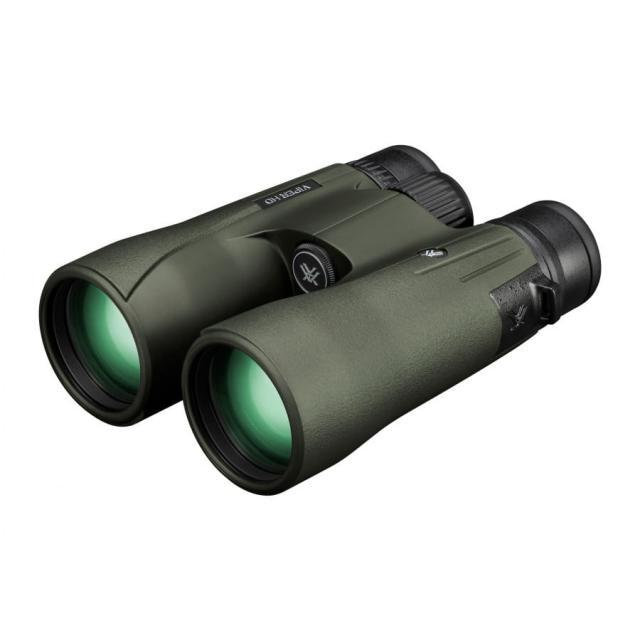Binocular: (35, 127, 610, 500)
